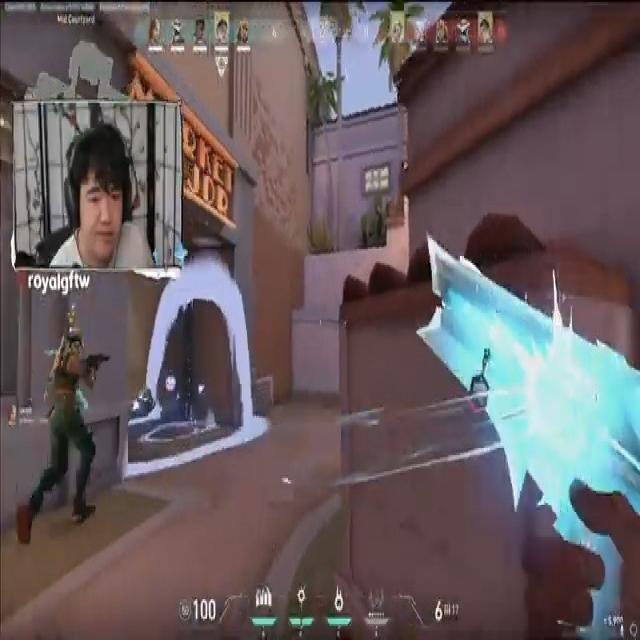ally: (14, 320, 114, 545)
